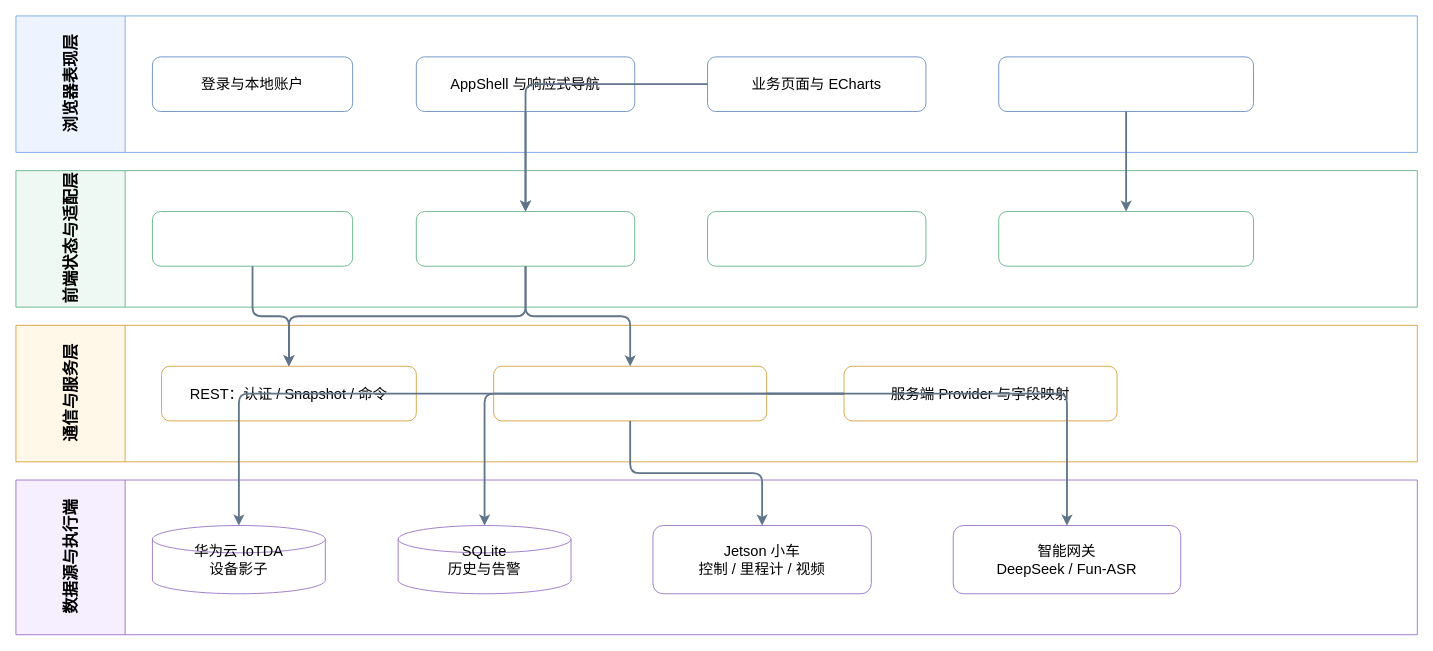
Some shapes in this 1433 by 651 pixel diagram are drawn without their labels. Here are the shapes that lost their labels. From the top down, the centre of each, then its label:
At (x=1126, y=83): "Three.js / WebGL 孪生工作台".
At (x=252, y=238): "Auth / Session Context".
At (x=525, y=238): "IoT Dashboard Provider".
At (x=816, y=238): "页面状态与 UI Preferences".
At (x=1126, y=238): "Web Worker / 模型解析缓存".
At (x=630, y=393): "WebSocket：车辆 / 视频 / Agent".
